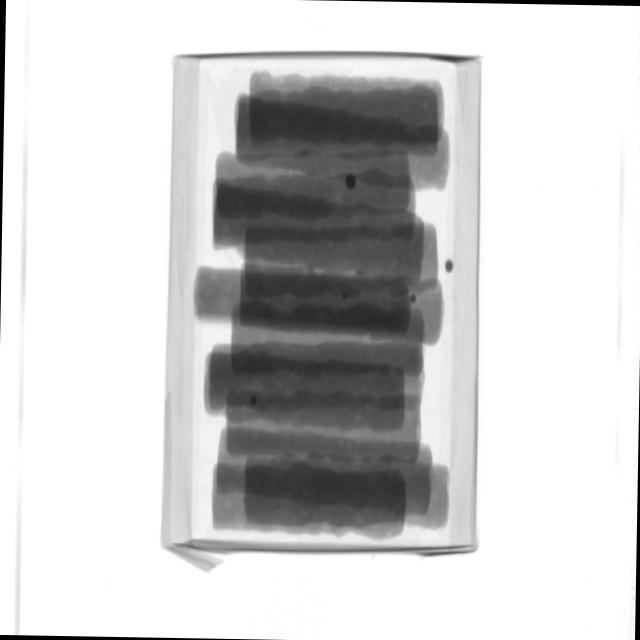ym: (346, 174, 358, 190), (409, 293, 419, 303), (447, 259, 455, 271), (251, 395, 259, 406), (344, 293, 350, 300)
